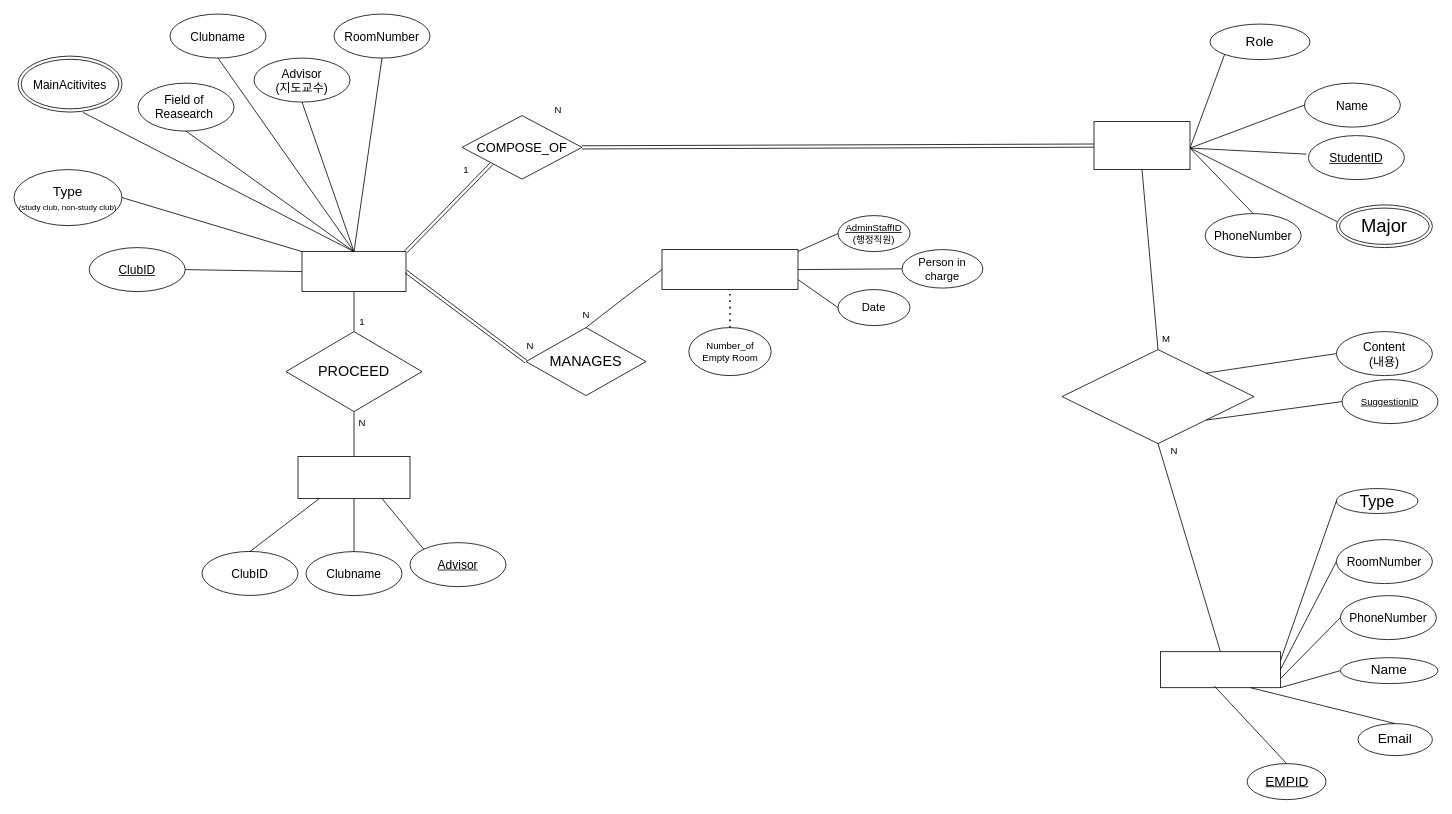
The diagram is 1452 pixels wide and 814 high, and some of its shapes have lost their labels. Here are the shapes that lost their labels. From the top down, the centre of each, then its label:
At point 1141,145: "Member".
At point 353,271: "Club".
At point 729,269: "Rentaled Room".
At point 1157,396: "make a suggestion (건의사항 요구)".
At point 353,477: "Project".
At point 1220,669: "EMPLOYEE".
